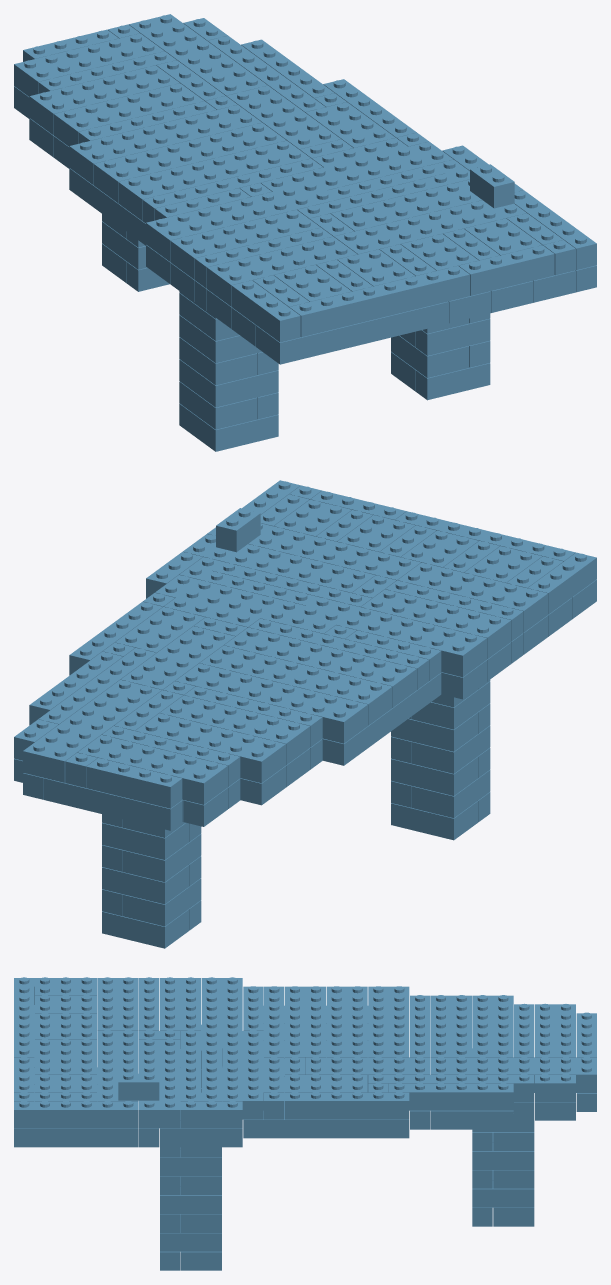
Rendered from collab_piano-L4V3_raw.glb.
The picture shows the model from 3 angles, top to bottom: view 1: azimuth 30°, elevation 25°; view 2: azimuth 150°, elevation 25°; view 3: azimuth 270°, elevation 25°; orthographic projection. The views are drawn at different scales.
Size of the model in its own units: 14.98 by 10.13 by 27.98.
